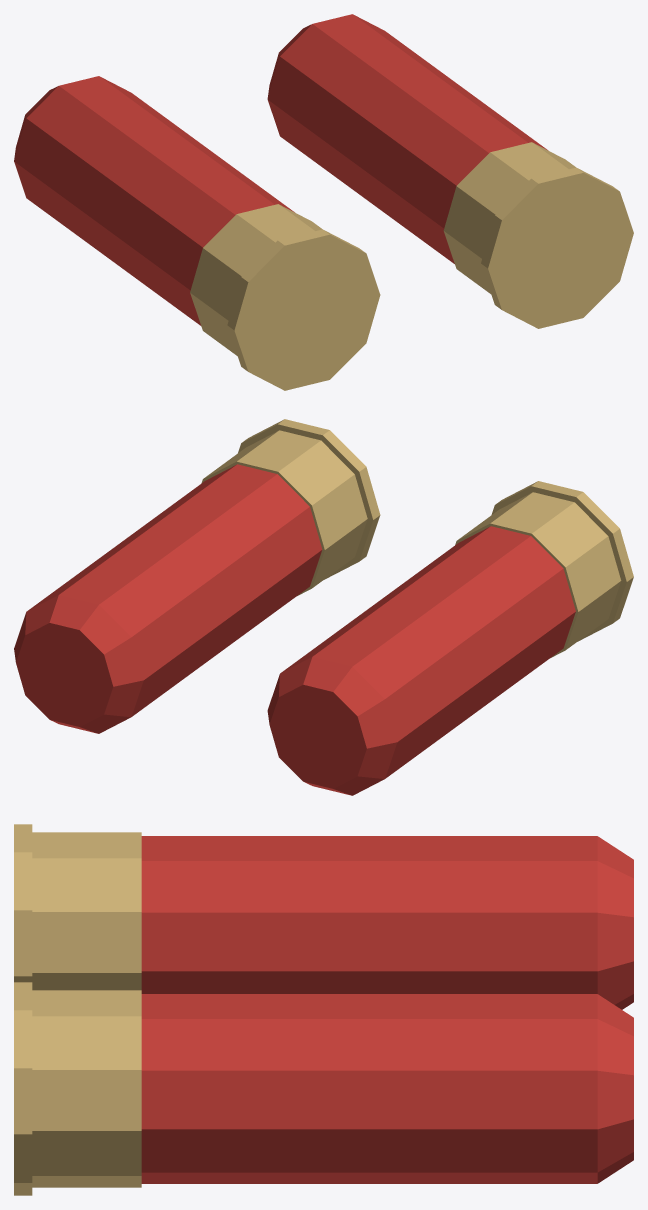
File: shell_pair.glb
3 views of the same model, one above another, from view 1: azimuth 30°, elevation 25°; view 2: azimuth 150°, elevation 25°; view 3: azimuth 270°, elevation 25° (orthographic). The views are drawn at different scales.
Parts seen in each view (by area): view 1: ShellPair; view 2: ShellPair; view 3: ShellPair.
Part boxes in pixels (x1,y1,x2,y2): ShellPair: (14,14,633,390); ShellPair: (14,419,633,795); ShellPair: (14,824,633,1195).
Bounding box in the file's own units: 0.0646 × 0.0224 × 0.068.
